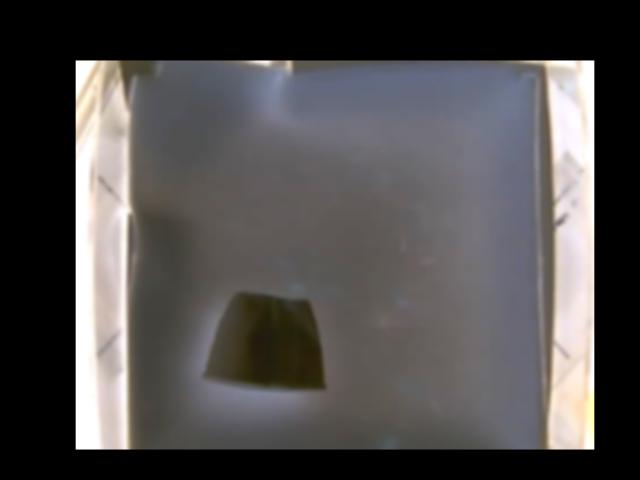Cup: (202, 289, 325, 395)
